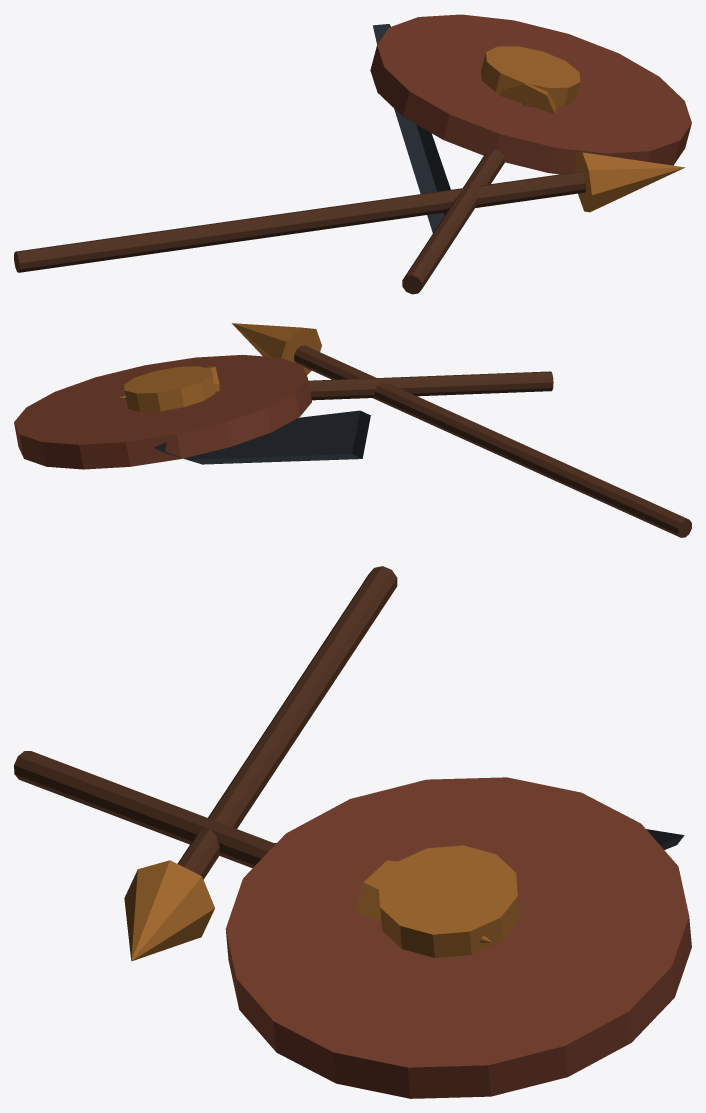
Rendered from battle_weapon_debris_LOD0.glb.
3 views of the same model, one above another, from view 1: azimuth 30°, elevation 25°; view 2: azimuth 150°, elevation 25°; view 3: azimuth 270°, elevation 25° (orthographic). The views are drawn at different scales.
Parts seen in each view (by area): view 1: battle_weapon_debris_LOD0; view 2: battle_weapon_debris_LOD0; view 3: battle_weapon_debris_LOD0.
Part boxes in pixels (left/top/right/bottom): battle_weapon_debris_LOD0: left=14, top=14, right=691, bottom=294; battle_weapon_debris_LOD0: left=14, top=323, right=691, bottom=537; battle_weapon_debris_LOD0: left=14, top=566, right=691, bottom=1098.
Bounding box in the file's own units: 2.52 × 0.3706 × 1.52.
